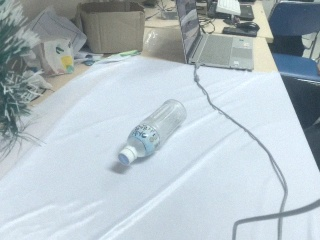bottle: (117, 98, 188, 166)
box: (77, 1, 145, 55)
